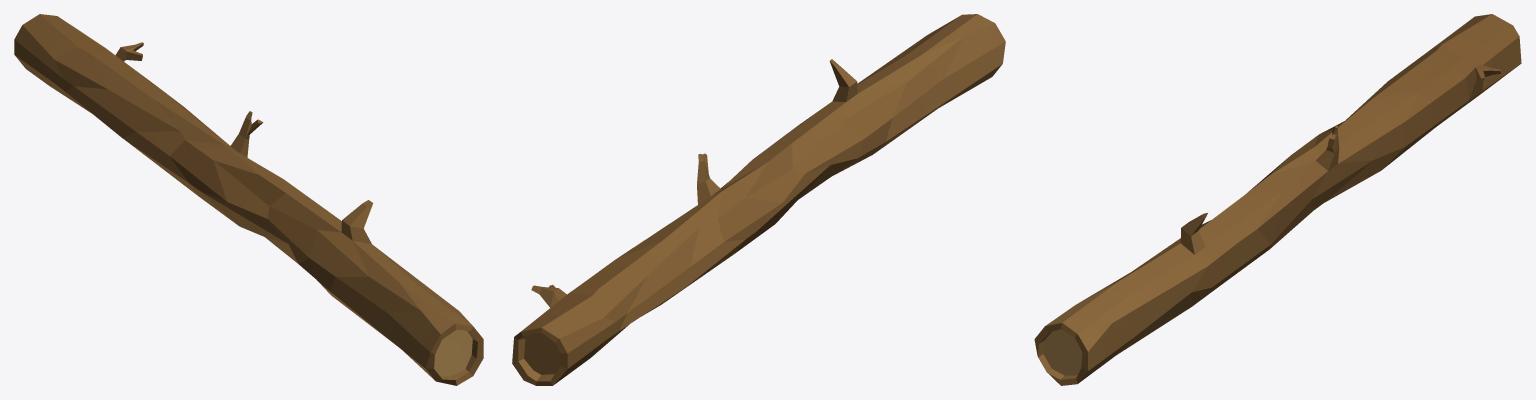
The model's file is log_10.glb.
3 views of the same model, side by side, from view 1: azimuth 30°, elevation 25°; view 2: azimuth 150°, elevation 25°; view 3: azimuth 330°, elevation 25° (orthographic). The views are drawn at different scales.
Parts seen in each view (by area): view 1: log_10; view 2: log_10; view 3: log_10.
Part boxes in pixels (x1,y1,x2,y2): log_10: (14,14,483,385); log_10: (512,14,1005,385); log_10: (1034,14,1521,385).
Bounding box in the file's own units: 0.1051 × 0.1051 × 0.8662.
1 material, 1 textured.
